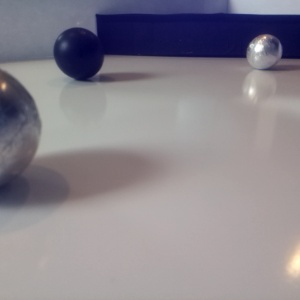zone: (97, 12, 300, 57)
